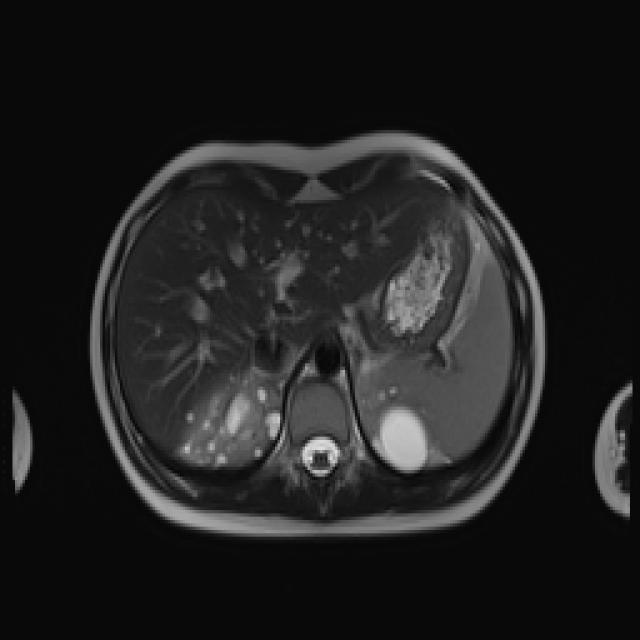sag: (172, 368, 283, 468)
sol: (355, 355, 454, 472)
